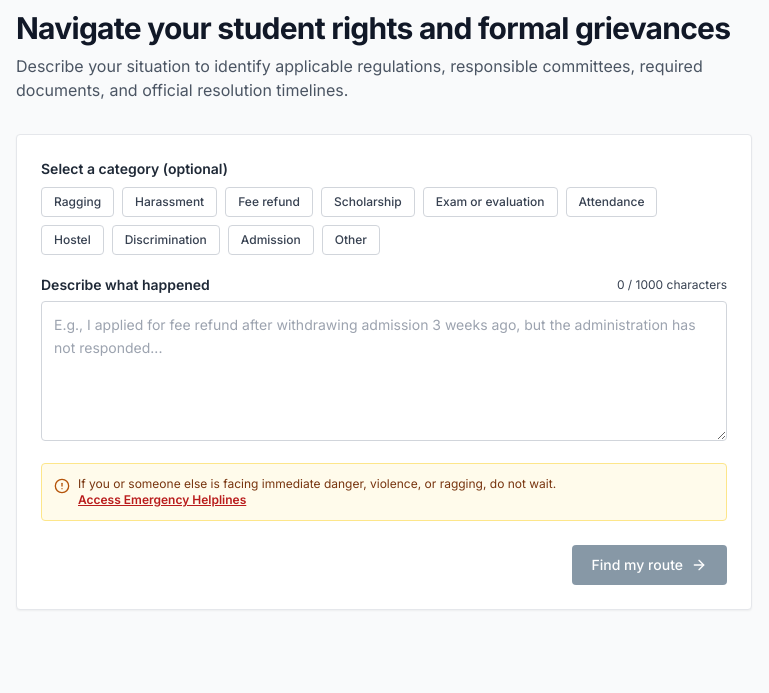
Test: Step 2: Home and Answer Pages › shows error with a Retry button on Home page if request fails
Replace the text in the text box labelled "Describe what happened" with "Fee query": [384, 371] box [41,301,727,441]
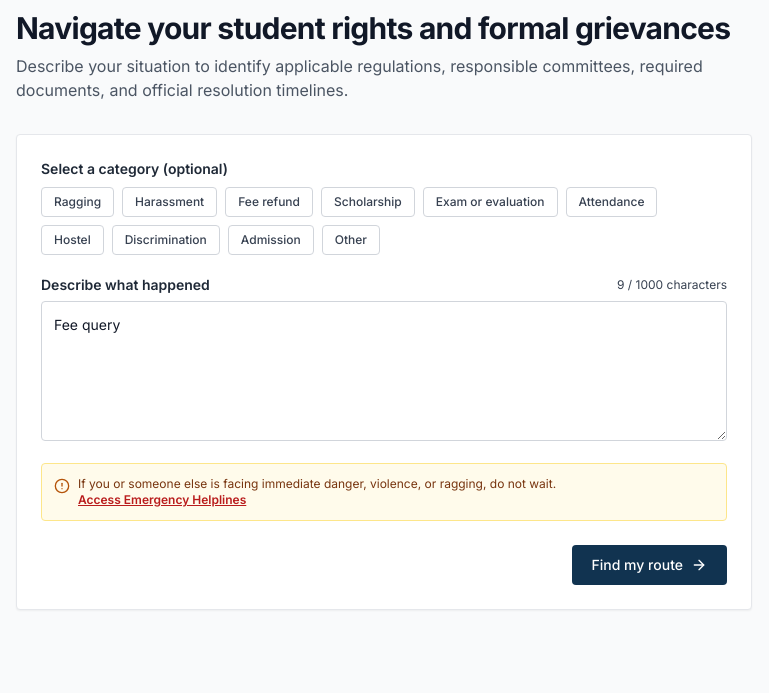
Click the button "Find my route": [649, 565] box [572,545,727,585]
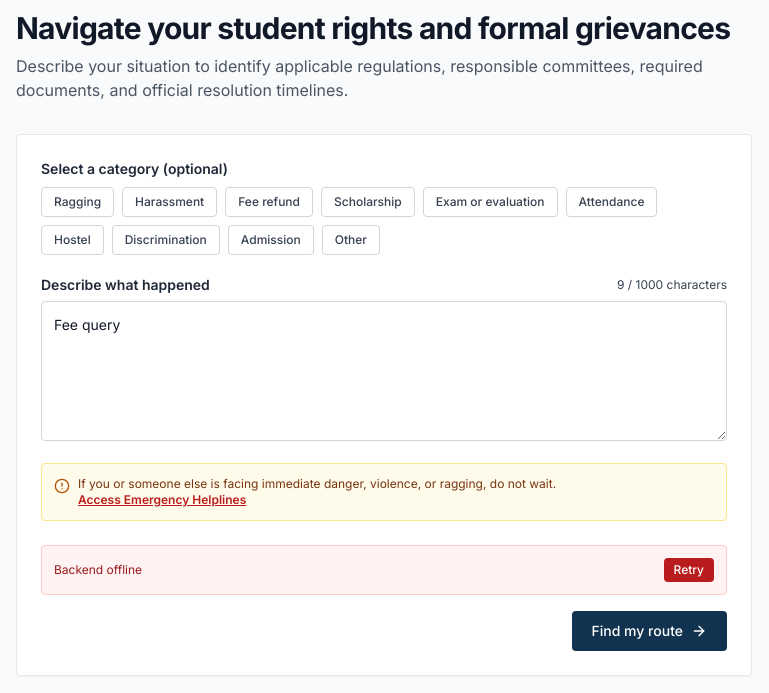
Check: the text "Backend offline" is shown, box [54,562,142,578]
Check: the button "Retry" is shown, box [664,558,714,582]
